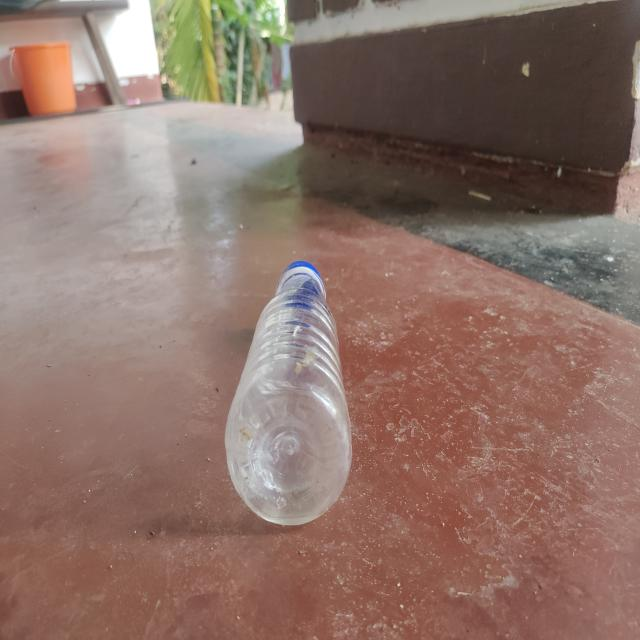plastic: (219, 258, 355, 529)
